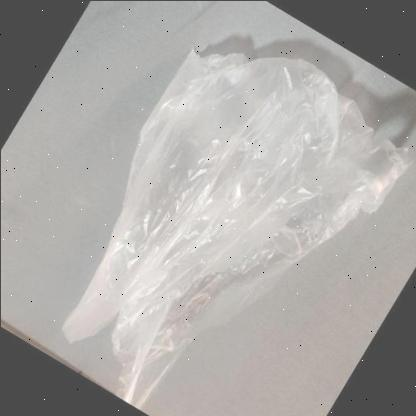Others: (58, 44, 412, 416)
